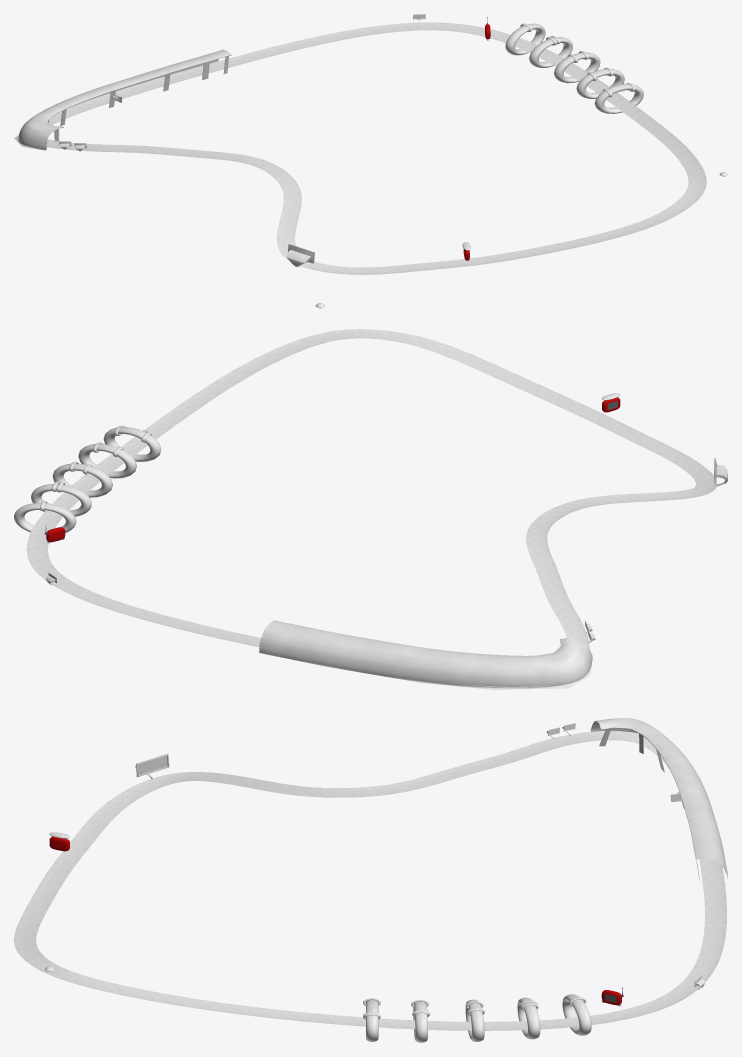
Rendered from RingMap_scenery.fbx.
The picture shows the model from 3 angles, top to bottom: view 1: azimuth 30°, elevation 25°; view 2: azimuth 150°, elevation 25°; view 3: azimuth 270°, elevation 25°; orthographic projection. The views are drawn at different scales.
Visible parts, largest first — view 1: loftedSurface6, roof1, race_gate, race_gate2, race_gate4, race_gate3, race_gate1, screen4; view 2: loftedSurface6, roof1, race_gate1, race_gate4, race_gate2, race_gate, race_gate3; view 3: loftedSurface6, roof1, race_gate4, race_gate3, race_gate2.
Part boxes in pixels (x1,y1,x2,y2): loftedSurface6: (46,22,706,274); roof1: (14,49,231,150); race_gate: (594,84,643,113); race_gate2: (554,52,600,83); race_gate4: (505,23,545,55); race_gate3: (529,37,572,67); race_gate1: (576,69,624,98); screen4: (286,244,314,266); loftedSurface6: (26,329,717,687); roof1: (259,620,592,689); race_gate1: (78,443,136,478); race_gate4: (14,503,76,532); race_gate2: (52,463,112,497); race_gate: (103,427,161,461); race_gate3: (31,484,91,516); loftedSurface6: (14,731,726,1030); roof1: (590,718,727,880); race_gate4: (562,994,591,1035); race_gate3: (517,997,540,1039); race_gate2: (465,999,484,1041).
Size of the model in its own units: 1640 by 131 by 1605.
Materials: 4 (1 with a texture image).
